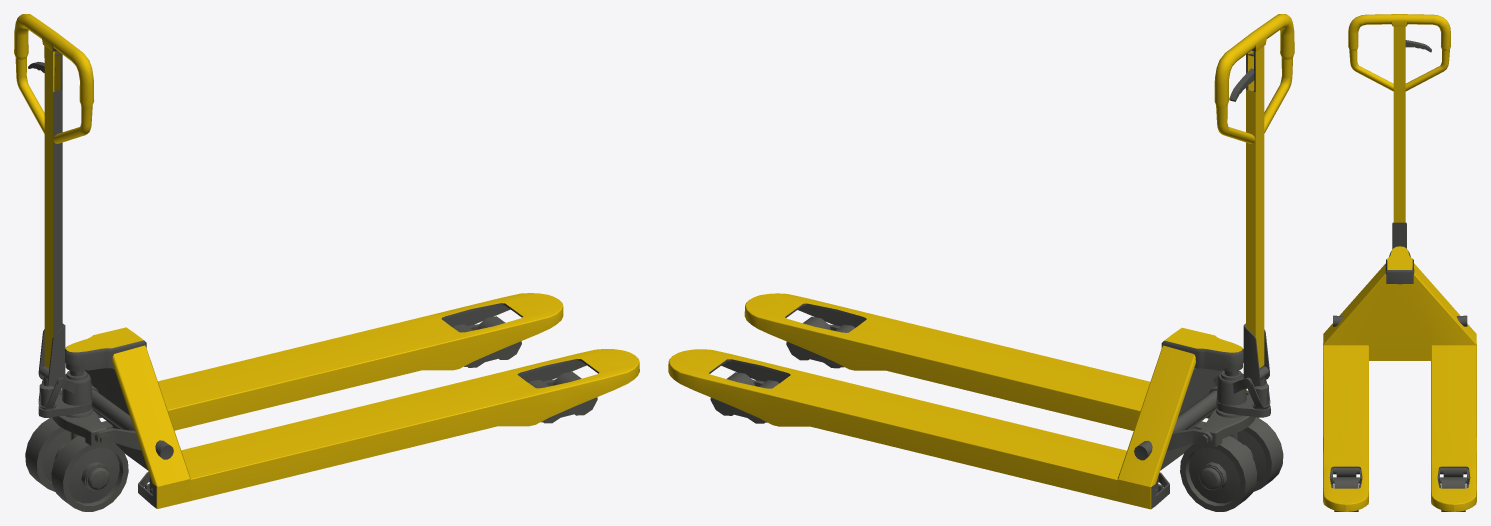
Rendered from goturgec.fbx.
3 views of the same model, side by side, from view 1: azimuth 30°, elevation 25°; view 2: azimuth 150°, elevation 25°; view 3: azimuth 270°, elevation 25° (orthographic). The views are drawn at different scales.
Visible parts, largest first — view 1: polySurface12; view 2: polySurface12; view 3: polySurface12.
Part boxes in pixels (bbox=[...]): polySurface12: bbox=[14, 14, 639, 511]; polySurface12: bbox=[668, 14, 1294, 511]; polySurface12: bbox=[1323, 14, 1476, 511].
Size of the model in its own units: 141 by 113 by 47.41.
